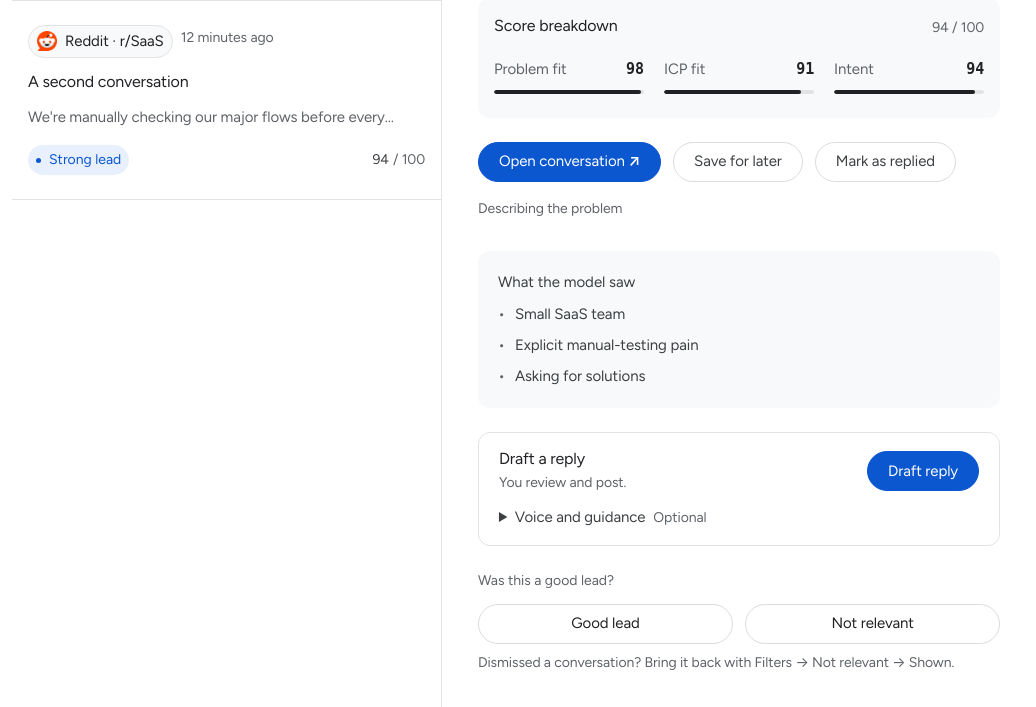
Test: the inbox › the two buttons on a match › takes a dismissed match out of the list and reads on
(page scrolled)
Step 1. Click the button "Not relevant" → (873, 624), box [745,604,1000,644]
(page scrolled)
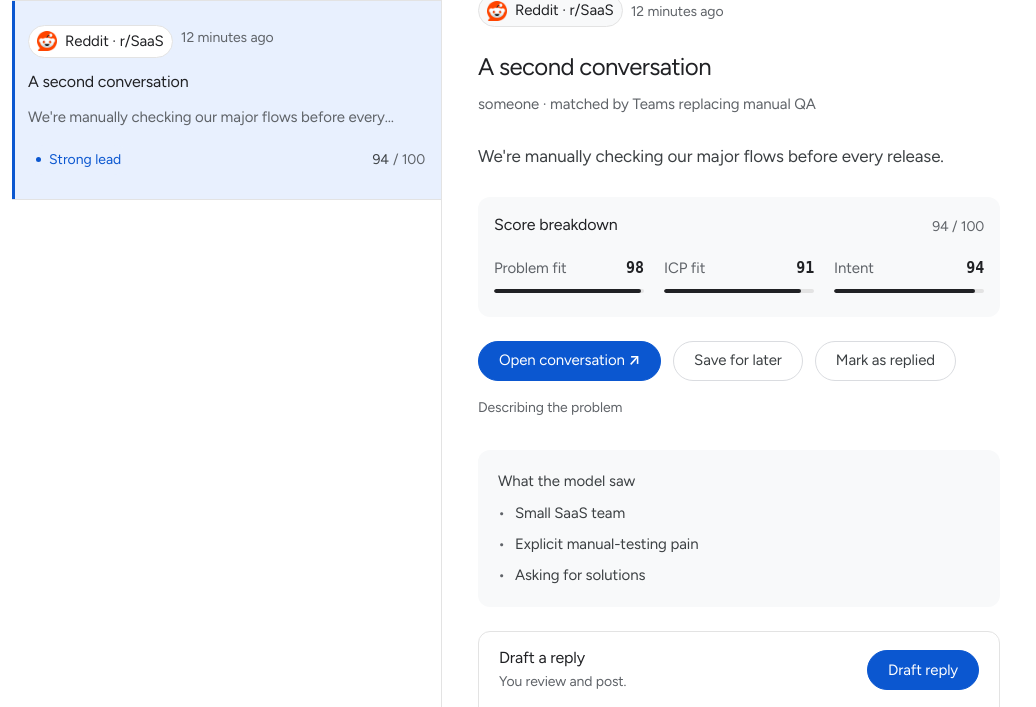
Now the heading with class "detail-title" reads "A second conversation", box [478,52,711,81]
